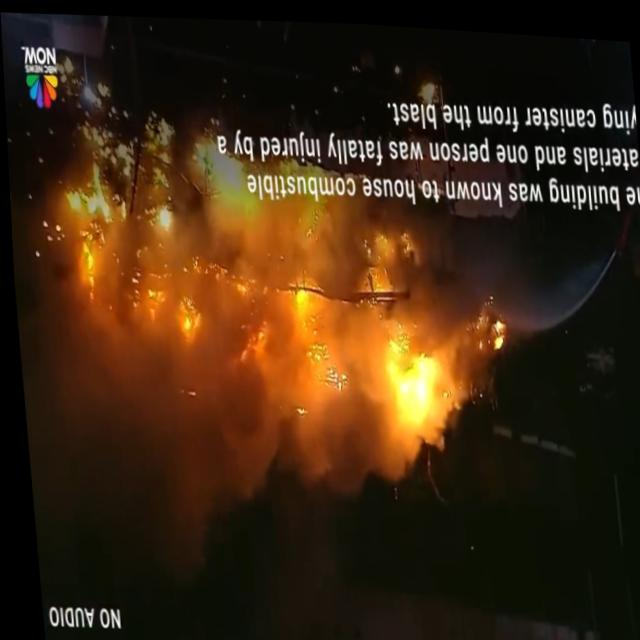Fire: (54, 174, 254, 355), (263, 284, 458, 453), (79, 86, 229, 182), (249, 199, 383, 281)
